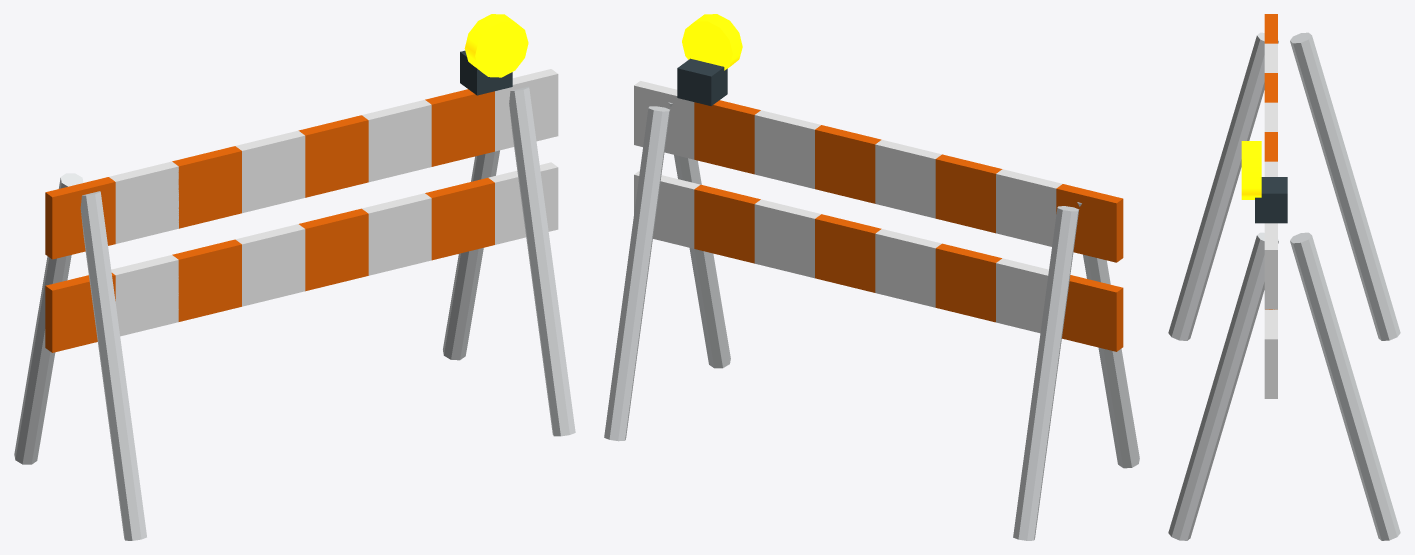
Rendered from roadevents_barrier.glb.
3 renders of one model, left to right at view 1: azimuth 30°, elevation 25°; view 2: azimuth 150°, elevation 25°; view 3: azimuth 270°, elevation 25°, orthographic. The views are drawn at different scales.
Visible parts, largest first — view 1: Barrier; view 2: Barrier; view 3: Barrier.
Boxes of the visible parts, x1,y1,x2,y2 form: Barrier: [14, 14, 575, 540]; Barrier: [604, 14, 1139, 540]; Barrier: [1168, 14, 1400, 540].
Size of the model in its own units: 1.7 by 1.28 by 0.7076.
